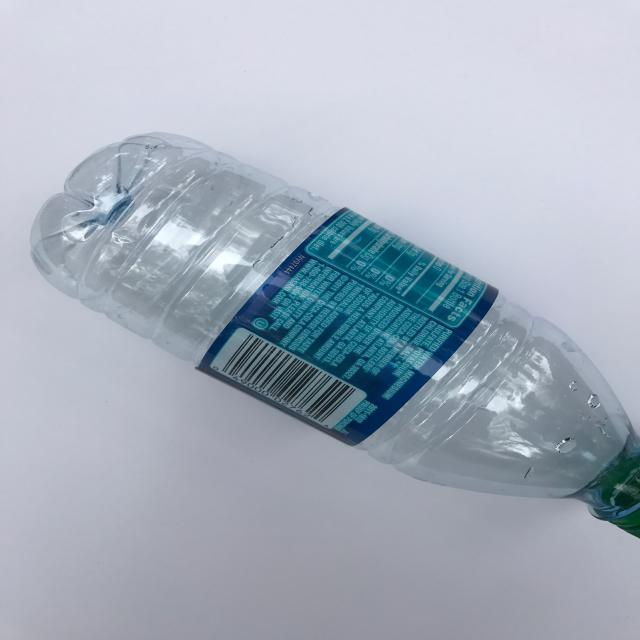plastic: (26, 128, 640, 541)
